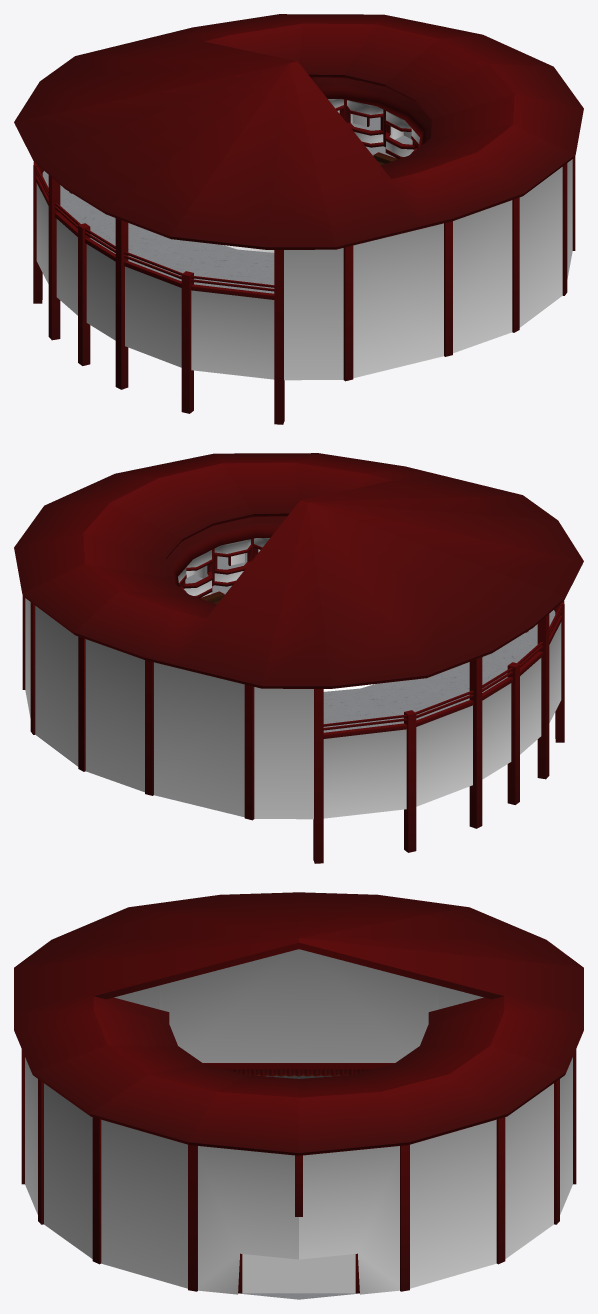
The model's file is Theatre.fbx.
3 renders of one model, top to bottom at view 1: azimuth 30°, elevation 25°; view 2: azimuth 150°, elevation 25°; view 3: azimuth 270°, elevation 25°, orthographic. The views are drawn at different scales.
Parts seen in each view (by area): view 1: Outside and roof, Seating and Stage.000; view 2: Outside and roof, Seating and Stage.000; view 3: Outside and roof, Seating and Stage.001, Curtains2.
Boxes of the visible parts, x1=… form: Outside and roof: x1=14, y1=14, x2=583, y2=424; Seating and Stage.000: x1=311, y1=77, x2=431, y2=159; Outside and roof: x1=14, y1=453, x2=583, y2=863; Seating and Stage.000: x1=166, y1=516, x2=286, y2=598; Outside and roof: x1=14, y1=892, x2=583, y2=1294; Seating and Stage.001: x1=114, y1=949, x2=483, y2=1299; Curtains2: x1=225, y1=1069, x2=372, y2=1076.
Size of the model in its own units: 4250 by 2074 by 3924.
8 materials, 1 textured.
